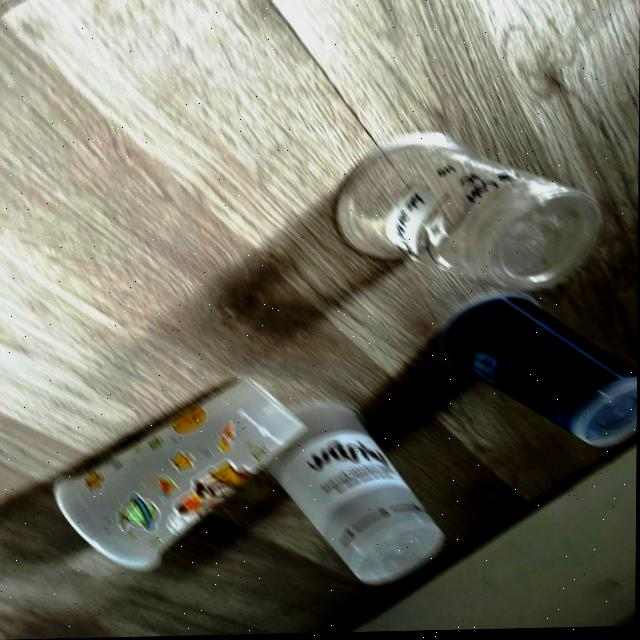Plastic Cup: (55, 381, 305, 571), (339, 135, 602, 290), (270, 404, 446, 587), (442, 299, 637, 448)
